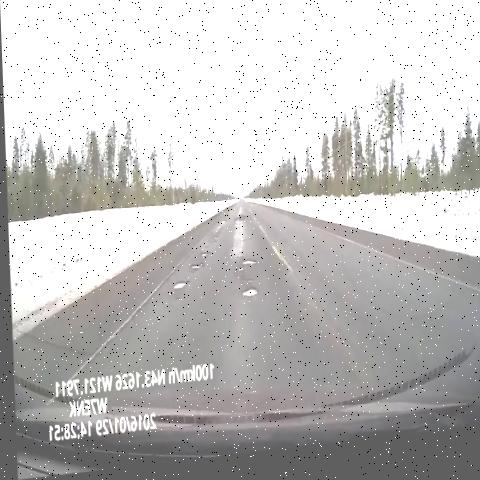pothole: (231, 259, 258, 285), (164, 279, 189, 306), (237, 289, 258, 313), (194, 247, 212, 266), (183, 263, 199, 284), (233, 217, 250, 235)
